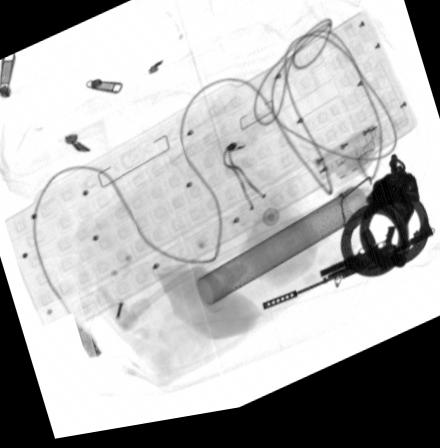Gun: (262, 226, 433, 320)
HandCuffs: (340, 163, 432, 292)
